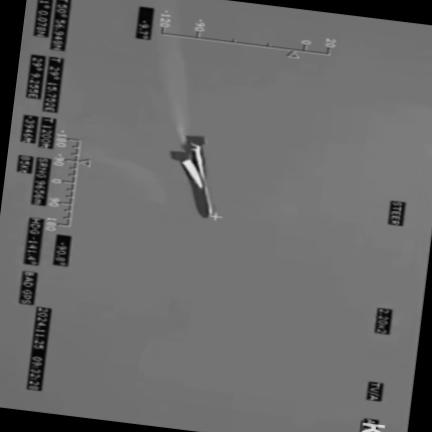Shahed: (169, 136, 212, 218)
